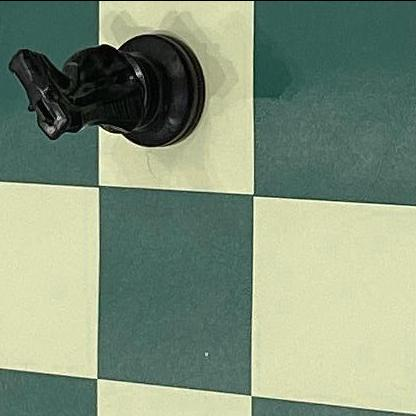black-knight: (7, 27, 206, 150)
